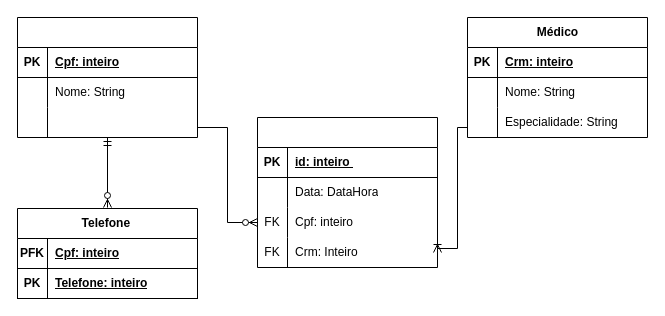
Image size: 665x316. Some labels were removed from this diagram. The box of each missing label's shape, as (x1, y1, x2, y2) in pixels:
Consulta: (256, 116, 438, 268)
Paciente: (16, 16, 198, 138)
